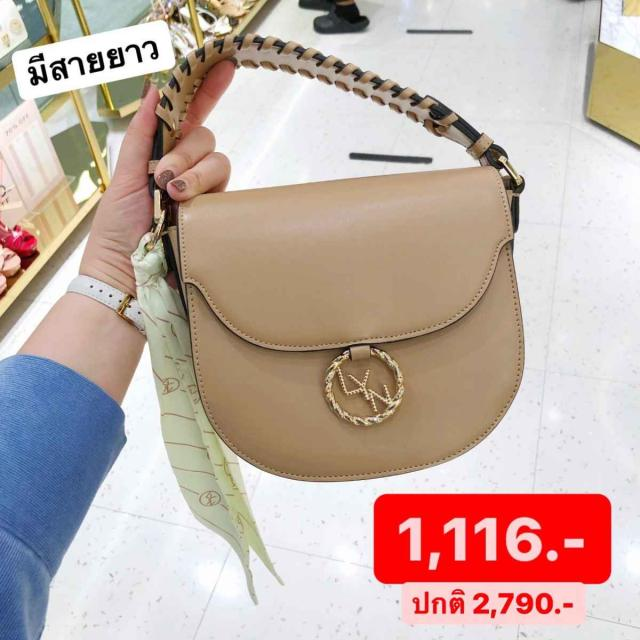Handbag: (137, 157, 558, 506)
